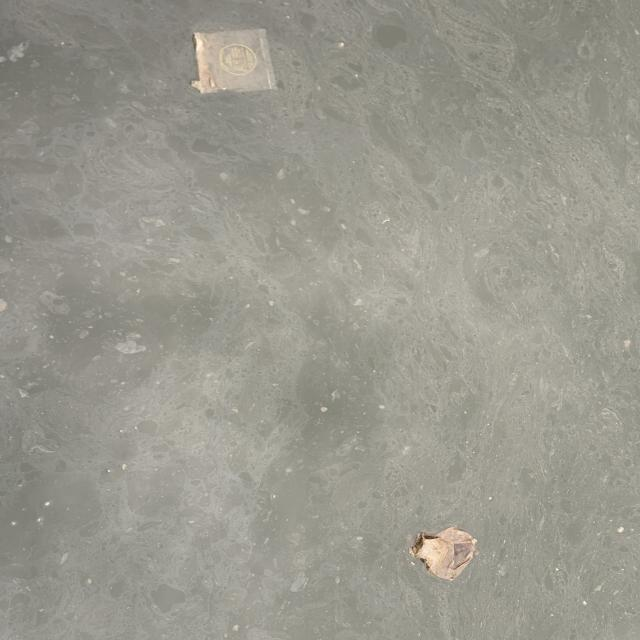Bungkus Makanan: (188, 27, 281, 97)
Kantong Plastik: (404, 522, 484, 584)
